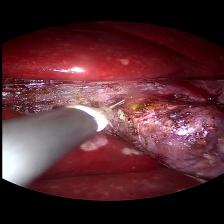Hook: (61, 96, 134, 136)
